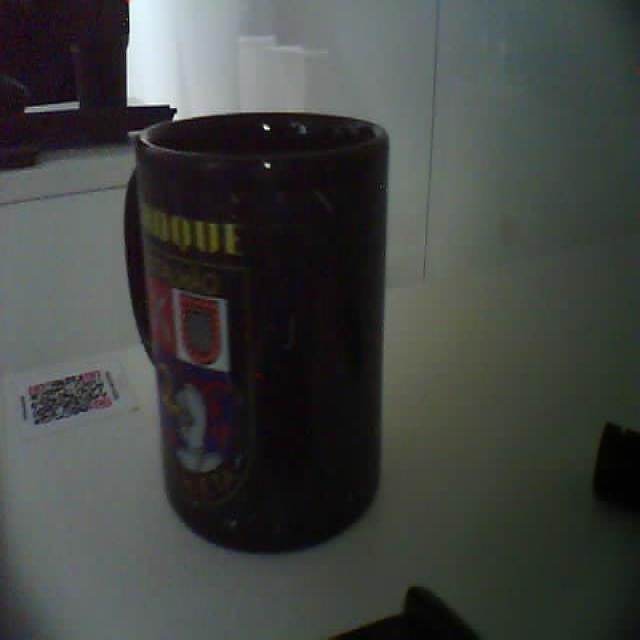caneca: (125, 112, 388, 549)
